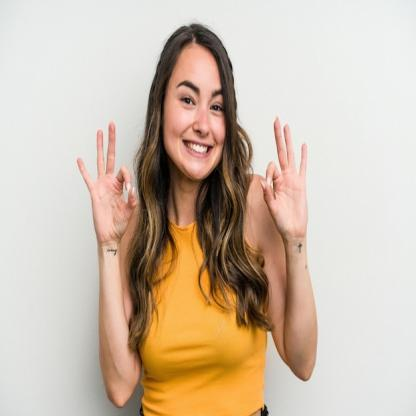ok: (74, 123, 138, 243), (262, 114, 312, 244)
